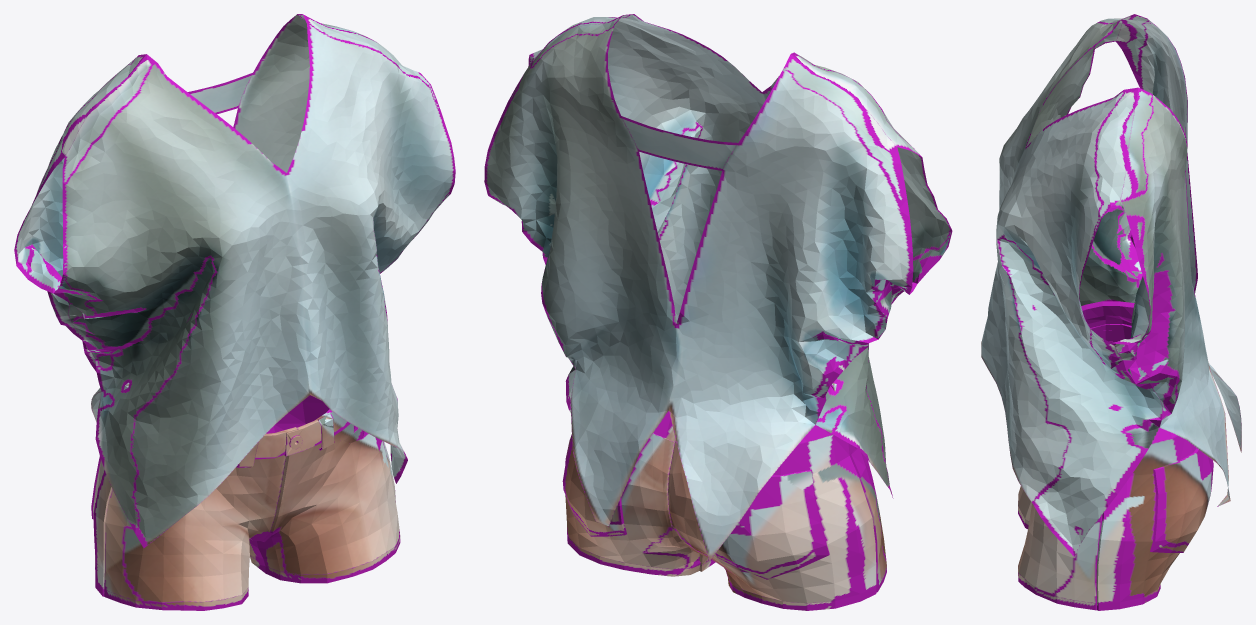
The picture shows the model from 3 angles, left to right: view 1: azimuth 30°, elevation 25°; view 2: azimuth 150°, elevation 25°; view 3: azimuth 270°, elevation 25°; orthographic projection. The views are drawn at different scales.
Size of the model in its own units: 0.8848 by 1.09 by 0.5091.
Materials: 1 (1 with a texture image).
